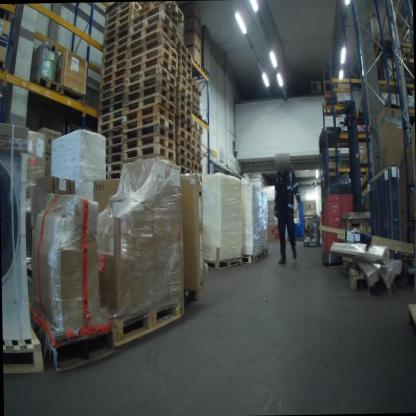forklift: (311, 91, 378, 273)
pallet: (30, 286, 126, 382), (104, 292, 187, 359), (3, 321, 48, 380), (125, 20, 181, 46), (125, 29, 180, 54), (127, 11, 180, 36), (131, 2, 183, 27), (123, 36, 178, 59), (342, 258, 377, 294), (121, 92, 177, 114), (123, 55, 176, 78), (120, 123, 175, 145), (118, 114, 175, 135), (120, 73, 176, 94), (122, 82, 177, 103), (123, 46, 177, 67), (25, 70, 64, 98), (120, 142, 176, 161), (120, 134, 176, 153), (121, 105, 176, 124), (399, 297, 416, 358), (200, 252, 243, 276), (123, 66, 176, 84), (63, 83, 88, 116), (346, 208, 372, 237), (184, 273, 209, 302), (234, 249, 265, 272), (104, 13, 130, 33), (104, 7, 131, 26), (101, 43, 126, 63), (98, 82, 123, 102), (103, 3, 131, 20), (101, 66, 127, 84), (103, 28, 130, 45), (99, 76, 125, 93), (103, 20, 129, 36), (99, 92, 125, 108), (101, 59, 124, 76), (98, 107, 121, 124), (103, 37, 129, 52), (336, 97, 353, 119), (97, 100, 124, 113), (177, 66, 195, 85), (177, 51, 194, 71), (101, 55, 125, 69), (341, 212, 351, 245), (178, 42, 194, 62), (97, 118, 121, 131), (101, 125, 122, 139), (175, 138, 193, 154), (256, 245, 273, 261), (176, 153, 192, 170), (178, 74, 193, 92), (178, 83, 193, 101), (189, 115, 204, 133), (177, 103, 193, 119), (177, 91, 192, 108), (102, 137, 125, 148), (176, 58, 191, 74), (176, 127, 192, 142), (177, 145, 192, 161), (178, 119, 192, 135), (177, 110, 191, 125), (188, 136, 203, 150), (104, 153, 123, 164), (325, 96, 337, 113), (103, 145, 123, 155), (103, 172, 123, 182), (190, 144, 203, 158), (191, 127, 203, 142), (200, 62, 209, 81), (104, 163, 122, 172), (190, 58, 199, 73), (177, 167, 192, 176), (190, 163, 203, 173), (191, 155, 202, 166), (193, 110, 202, 120)
stillage: (301, 211, 323, 248)
